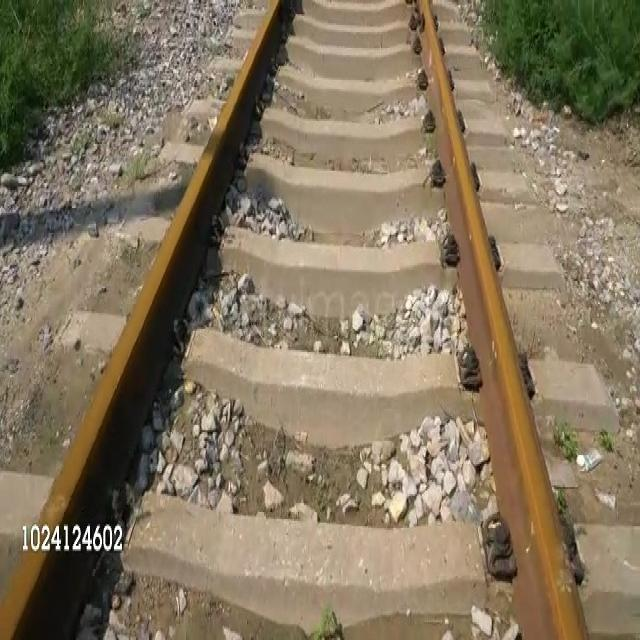Plant: (0, 0, 114, 168), (481, 0, 639, 117), (304, 609, 342, 639), (552, 424, 575, 461), (597, 428, 613, 453)
